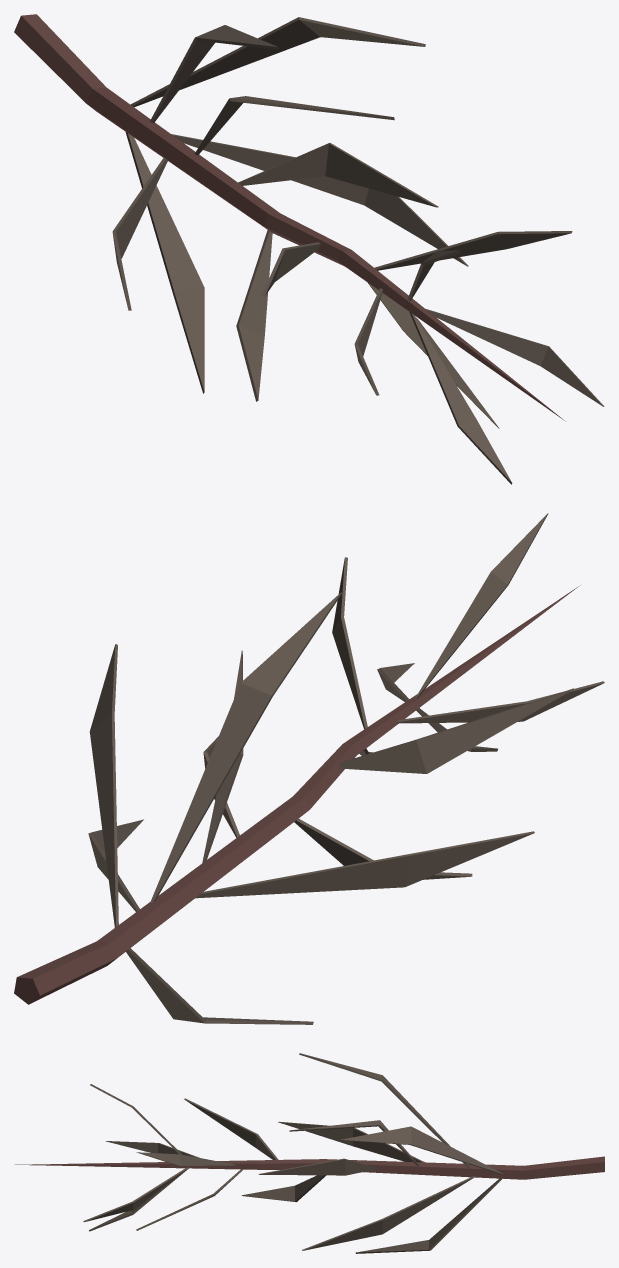
Rendered from plant-leafy-2.obj.
3 views of the same model, one above another, from view 1: azimuth 30°, elevation 25°; view 2: azimuth 150°, elevation 25°; view 3: azimuth 270°, elevation 25° (orthographic). The views are drawn at different scales.
Parts seen in each view (by area): view 1: plant-leafy-2; view 2: plant-leafy-2; view 3: plant-leafy-2.
Boxes of the visible parts, x1,y1,x2,y2 form: plant-leafy-2: [14, 14, 604, 484]; plant-leafy-2: [14, 513, 604, 1024]; plant-leafy-2: [14, 1053, 604, 1253].
Bounding box in the file's own units: 13.92 × 13.92 × 36.
